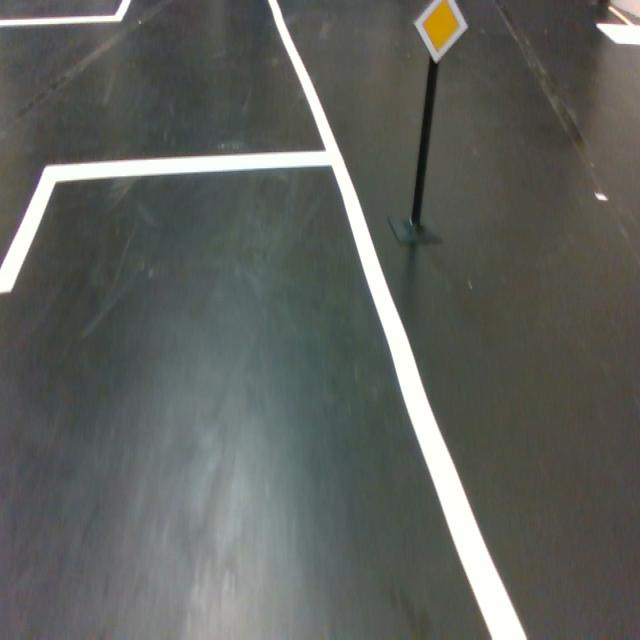priority-sign: (412, 0, 469, 63)
